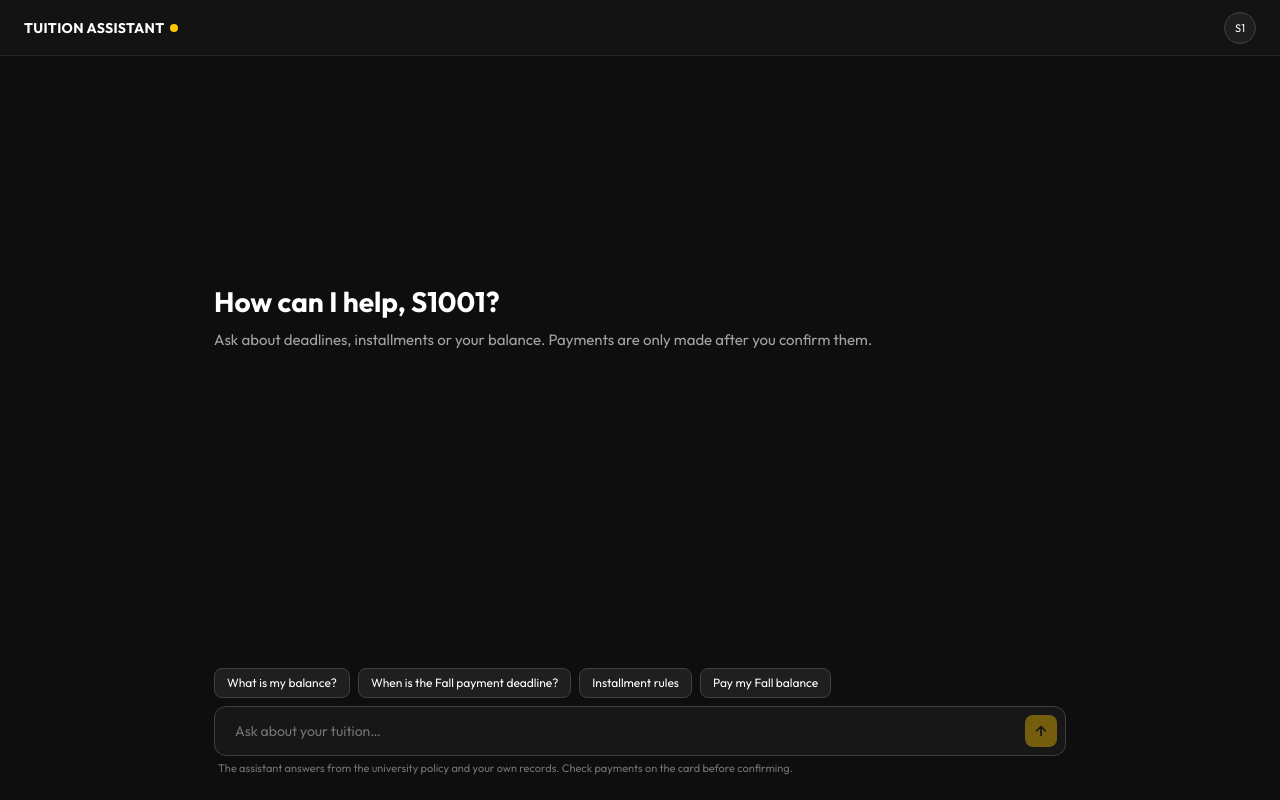
Scenario: chat screen › shows a card as expired once its time is over
The image size is (1280, 800).
In the text box named "Message": (624,731) x1=235 y1=715 x2=1013 y2=747, type "pay 500"
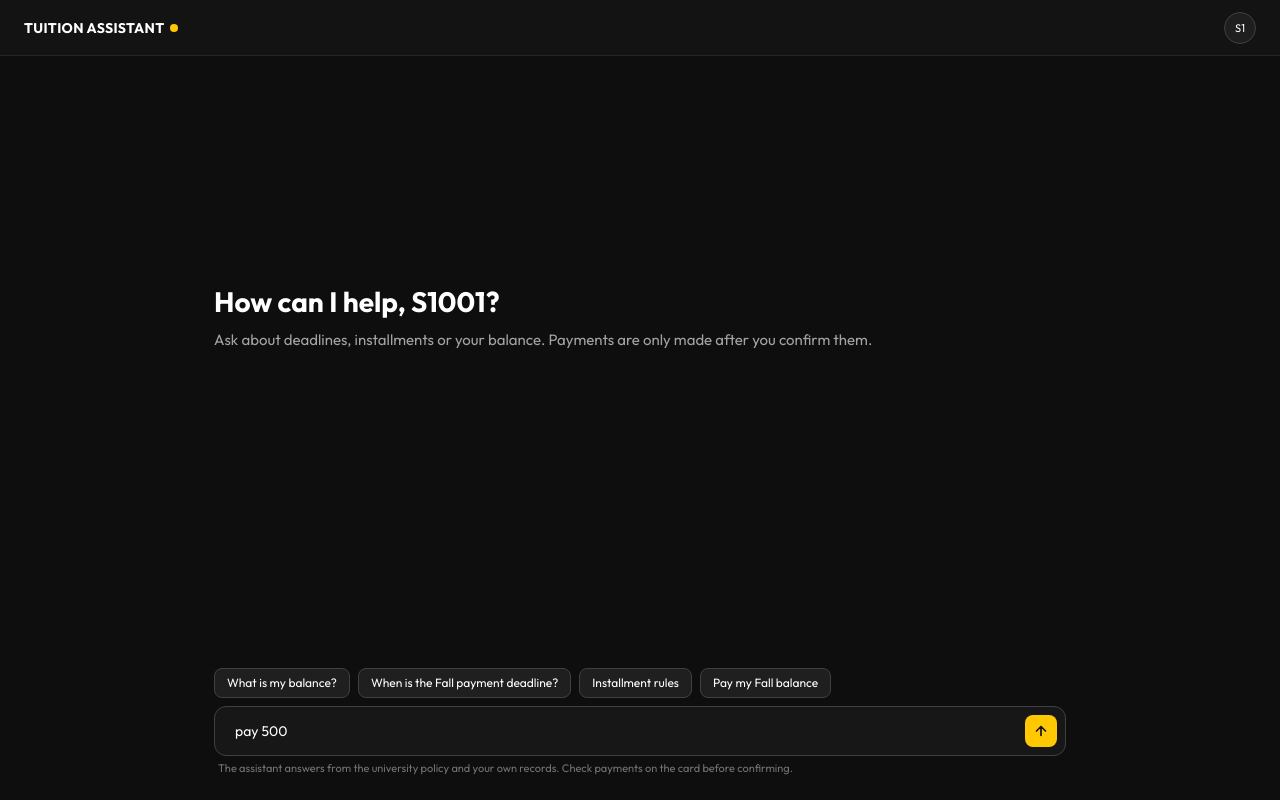
Press Enter in the text box named "Message", box x1=235 y1=715 x2=1013 y2=747
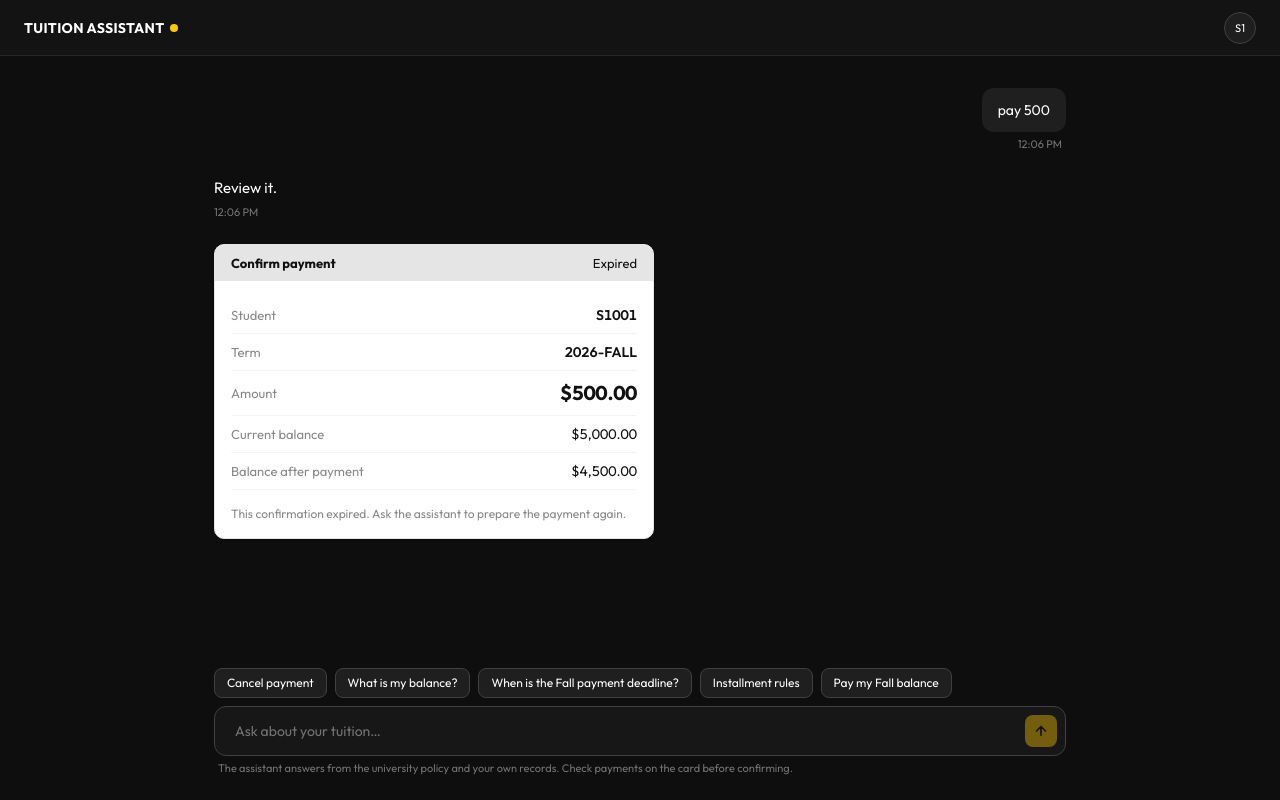
Expected: the text "Expired" is shown, x1=593 y1=253 x2=637 y2=273
